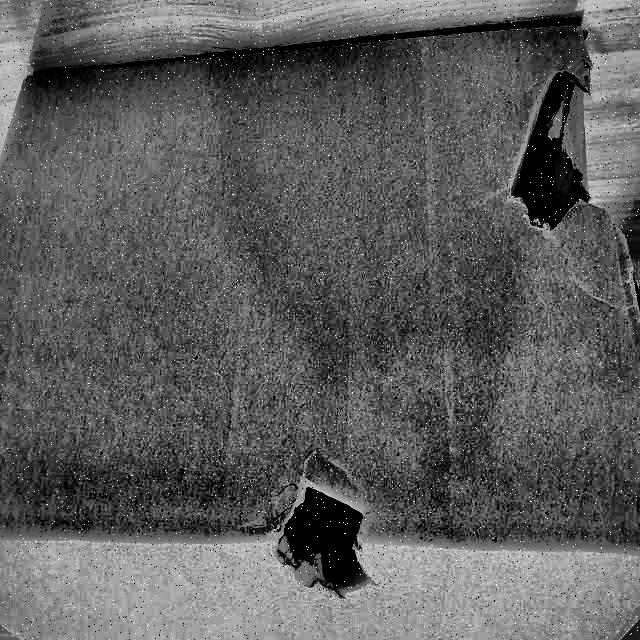box: (1, 6, 640, 640)
hole: (507, 66, 598, 250), (268, 467, 382, 606)
